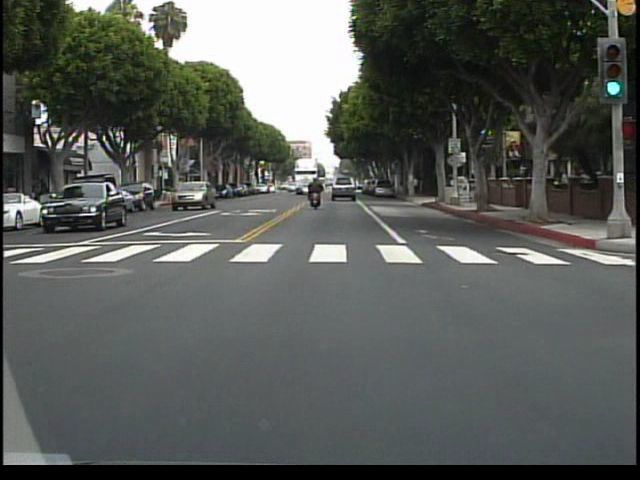person: (305, 173, 324, 212)
